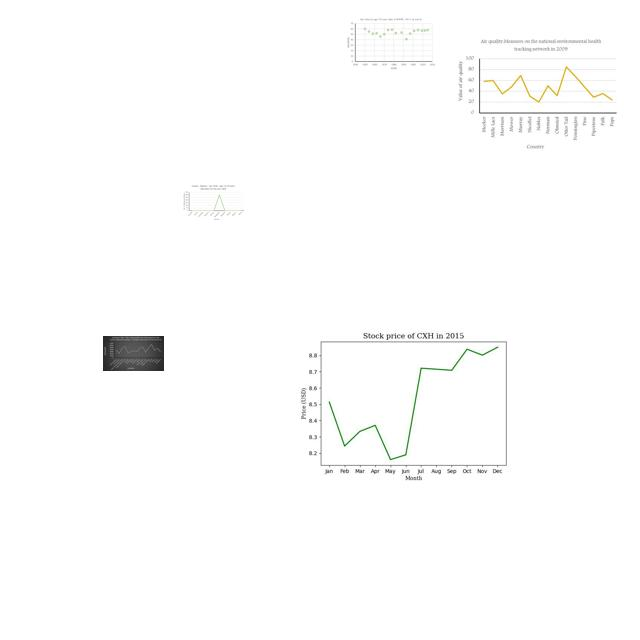Graph: (291, 313, 530, 492), (453, 34, 619, 152), (345, 15, 436, 70), (182, 184, 245, 221), (103, 336, 164, 371)
